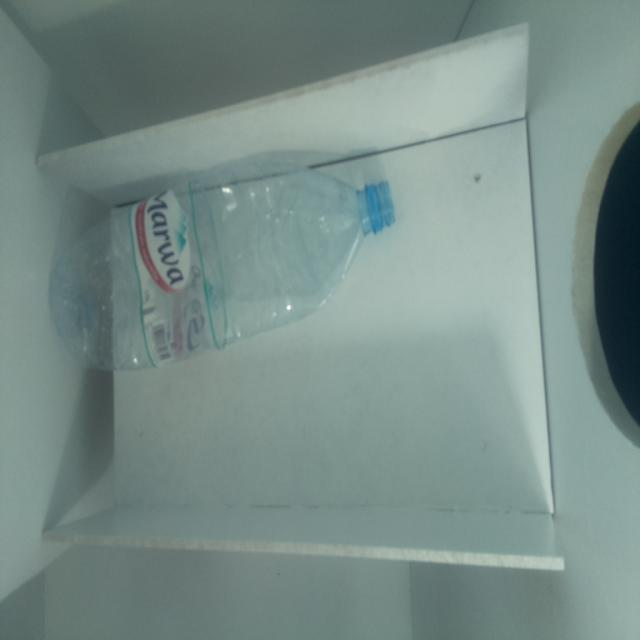Anorganik: (42, 152, 401, 382)
